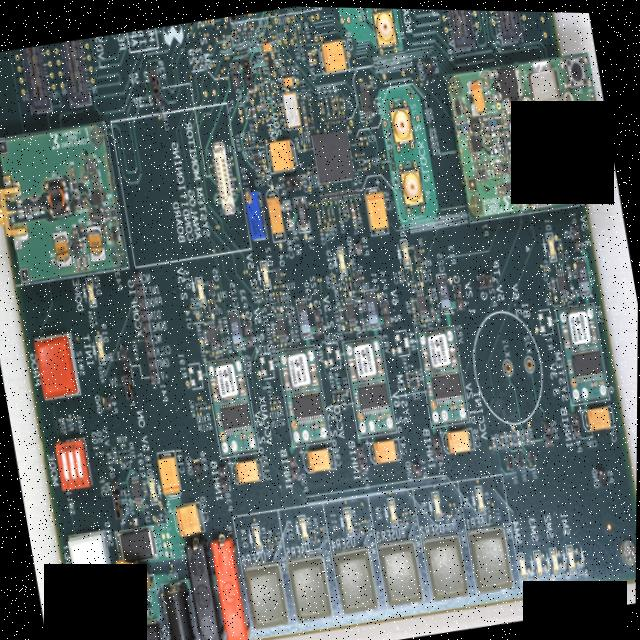-component text- -1 2 3 4 5 6 7 8-: (587, 104, 598, 150)
-component text- -1 2 3 4-: (597, 166, 603, 188)
-component text- -1 2 3-: (67, 477, 86, 488)
-component text- -100 6V-: (578, 263, 589, 278), (367, 298, 377, 313), (299, 307, 309, 322), (230, 319, 240, 333), (439, 282, 448, 296)
-component text- -106C P3705-: (528, 118, 534, 129)
-component text- -3350 1200-: (286, 76, 291, 85)
-component text- -476 10V-: (513, 110, 523, 122), (474, 91, 484, 103)
-component text- -687 6K 206-: (181, 509, 199, 529)
-component text- -687 6K 343-: (370, 196, 385, 225), (161, 458, 176, 486), (272, 143, 289, 166), (326, 42, 344, 63)
-component text- -E EG-2121 200-00P OHPA31KS-: (285, 95, 299, 121)
-component text- -K0 337 6K 321-: (449, 430, 467, 449), (375, 441, 393, 459), (309, 449, 326, 468), (269, 198, 281, 223), (237, 461, 253, 478)
-component text- -KO 337 6K 321-: (589, 406, 607, 425)
-component text- -ON DIP-: (586, 167, 594, 189)
-component text- -PTH05000 WAH 0404W701-: (569, 309, 588, 340), (355, 343, 374, 374), (217, 364, 236, 394), (429, 333, 448, 363), (289, 353, 308, 383)
-component text- -PY 65-: (515, 120, 524, 128), (476, 101, 485, 108)
-component text- -Y 500-: (249, 206, 258, 234)
-component text- 000: (26, 206, 31, 213), (509, 434, 513, 440), (493, 436, 496, 442), (502, 436, 505, 441), (502, 137, 505, 141), (504, 146, 506, 149)
-component text- 1: (125, 638, 132, 640)
-component text- 10R0: (520, 149, 523, 155)
-component text- 1102: (292, 332, 295, 338)
-component text- 1133: (432, 309, 435, 315)
-component text- 13: (580, 100, 585, 105)
-component text- 1X: (591, 161, 596, 167)
-component text- 2: (148, 633, 158, 640)
-component text- 2011: (223, 339, 226, 347)
-component text- 2201: (82, 230, 85, 237), (74, 182, 77, 188), (77, 198, 80, 204)
-component text- 2202: (113, 208, 116, 216), (458, 122, 461, 128)
-component text- 221: (485, 117, 488, 124), (497, 116, 500, 122)
-component text- 22R6: (286, 208, 291, 218)
-component text- 2321: (144, 483, 147, 491)
-component text- 2612: (429, 290, 432, 296)
-component text- 2R2J: (298, 203, 306, 220)
-component text- 3300: (106, 210, 109, 215)
-component text- 3302: (491, 116, 494, 122)
-component text- 347C: (253, 209, 261, 234)
-component text- 4700: (568, 264, 571, 272), (204, 331, 207, 339)
-component text- 4701: (527, 431, 530, 437)
-component text- 4R7: (471, 118, 480, 125), (92, 212, 101, 219)
-component text- 510: (33, 199, 37, 207)
-component text- C476: (57, 245, 66, 252), (92, 239, 101, 246)
-component text- DIP: (583, 138, 589, 151)
-component text- EPC03: (473, 86, 482, 93), (512, 106, 521, 112)
-component text- ON: (576, 105, 581, 114)
-component text- OPEN: (63, 443, 76, 451)
-electrolytic capacitor- C1: (574, 252, 592, 295)
-electrolytic capacitor- C12: (505, 95, 526, 133)
-electrolytic capacitor- C125: (227, 308, 245, 349)
-electrolytic capacitor- C135: (230, 455, 266, 484)
-electrolytic capacitor- C140: (172, 499, 207, 538)
-electrolytic capacitor- C141: (157, 448, 183, 499)
-electrolytic capacitor- C2: (580, 401, 616, 429)
-electrolytic capacitor- C25: (436, 269, 453, 312)
-electrolytic capacitor- C26: (441, 423, 477, 453)
-electrolytic capacitor- C35: (363, 183, 391, 234)
-electrolytic capacitor- C38: (316, 37, 350, 74)
-electrolytic capacitor- C41: (363, 286, 381, 329)
-electrolytic capacitor- C47: (367, 434, 404, 463)
-electrolytic capacitor- C67: (280, 74, 297, 88)
-electrolytic capacitor- C79: (258, 39, 276, 54)
-electrolytic capacitor- C86: (264, 186, 287, 242), (265, 136, 299, 173)
-electrolytic capacitor- C88: (85, 224, 107, 261)
-electrolytic capacitor- C90: (296, 296, 313, 338)
-electrolytic capacitor- C93: (51, 229, 74, 267)
-electrolytic capacitor- C96: (301, 444, 337, 473)
-electrolytic capacitor- unknown: (466, 75, 487, 113), (524, 112, 537, 137)
-emi filter- FIL1: (475, 165, 489, 180)
-emi filter- FIL10: (84, 158, 98, 172)
-emi filter- FIL2: (501, 178, 516, 192)
-emi filter- FIL3: (498, 159, 512, 173)
-emi filter- FIL4: (515, 131, 529, 145)
-test point- TP1: (495, 98, 501, 108)
-test point- TP2: (527, 195, 533, 205)
-test point- TP7: (50, 256, 58, 266)
-test point- XJ1: (500, 355, 515, 375)
-test point- XJ2: (522, 351, 537, 371)
2005: (427, 284, 434, 301)
2016: (415, 259, 421, 264)
2020: (75, 422, 78, 430)
2021: (67, 423, 71, 431)
2023: (60, 425, 64, 433)
2024: (559, 248, 563, 258)
2026: (507, 429, 515, 445)
2027: (499, 430, 507, 446)
2028: (491, 431, 498, 447)
2029: (524, 426, 532, 442)
2033: (455, 506, 458, 514)
2036: (411, 269, 414, 277)
2041: (392, 159, 395, 167)
2045: (390, 146, 394, 156)
2052: (418, 314, 421, 322)
2066: (410, 294, 417, 309)
2072: (406, 269, 409, 277)
2080: (494, 110, 503, 127), (550, 274, 557, 290)
2081: (445, 507, 448, 515)
2111: (410, 368, 415, 373)
2123: (406, 367, 410, 381)
2156: (548, 260, 552, 269)
2157: (354, 134, 360, 139)
2161: (358, 150, 363, 155)
2170: (23, 204, 33, 214), (355, 139, 361, 144)
2182: (103, 204, 112, 221), (360, 164, 365, 169)
2183: (79, 224, 88, 242), (358, 159, 364, 164)
2185: (31, 194, 40, 211), (358, 155, 363, 160)
2186: (74, 192, 83, 209)
2187: (109, 203, 118, 221)
2188: (71, 177, 80, 194)
2189: (550, 293, 554, 302)
2201: (357, 185, 360, 193)
2202: (343, 113, 346, 121)
2204: (354, 185, 358, 195)
2205: (411, 514, 414, 522)
2206: (340, 112, 344, 122)
2207: (352, 187, 355, 195)
2209: (338, 113, 341, 121)
2210: (349, 187, 352, 195)
2211: (518, 143, 526, 160)
2212: (335, 113, 338, 121)
2215: (347, 188, 350, 196)
2216: (332, 114, 335, 122)
2217: (344, 187, 348, 197)
2218: (400, 515, 403, 523)
2219: (329, 113, 333, 123)
2220: (342, 188, 345, 196)
2221: (357, 295, 364, 311)
2223: (361, 316, 368, 332)
2224: (355, 286, 360, 291)
2225: (339, 188, 342, 196)
2226: (326, 114, 330, 124)
2228: (337, 188, 340, 196)
2229: (323, 115, 327, 124)
2230: (334, 189, 337, 197)
2232: (332, 189, 335, 197)
2234: (482, 112, 491, 130), (461, 116, 469, 133), (488, 112, 496, 128), (502, 143, 509, 151), (500, 135, 507, 143)
2237: (568, 97, 605, 160)
2238: (579, 157, 611, 198)
2241: (54, 435, 94, 491)
2247: (117, 616, 169, 640)
2249: (105, 626, 113, 639), (226, 455, 234, 467), (298, 444, 306, 455), (437, 424, 445, 435), (577, 402, 585, 413), (273, 180, 280, 191), (364, 435, 371, 446), (374, 175, 381, 185), (312, 42, 318, 53), (166, 498, 172, 507), (298, 158, 304, 167), (169, 505, 174, 514), (242, 343, 248, 350), (276, 74, 281, 81), (255, 39, 260, 46), (379, 322, 384, 329), (101, 593, 105, 601), (311, 332, 315, 339), (590, 290, 594, 296), (451, 307, 455, 313)
2258: (463, 276, 478, 313)
2270: (244, 250, 259, 285), (252, 304, 266, 340), (322, 292, 336, 327), (175, 264, 188, 299), (128, 68, 150, 85), (109, 374, 125, 386)
2271: (389, 285, 403, 321)
2273: (264, 109, 283, 139)
2277: (579, 209, 593, 246), (132, 92, 154, 108), (105, 348, 122, 362)
2282: (510, 278, 524, 315)
2290: (136, 408, 151, 451)
2291: (161, 622, 172, 640)
2295: (491, 254, 507, 300)
2296: (127, 589, 154, 606)
2327: (412, 120, 431, 180)
2375: (102, 424, 117, 478)
2387: (485, 192, 504, 213)
2434: (91, 430, 109, 496)
2435: (96, 429, 114, 496)
2436: (123, 605, 155, 622)
2534: (84, 126, 91, 143)
2536: (482, 195, 488, 214)
2559: (58, 127, 87, 148)
2570: (545, 347, 571, 401)
2571: (158, 118, 212, 243)
2598: (160, 368, 169, 379)
2631: (465, 379, 479, 422)
2632: (325, 400, 341, 445), (253, 408, 269, 453)
2633: (390, 387, 406, 433)
2638: (22, 94, 26, 102)
2644: (248, 430, 255, 436), (599, 377, 606, 383), (386, 411, 393, 416), (459, 400, 465, 405), (320, 421, 326, 426), (354, 169, 359, 174), (153, 384, 158, 389), (495, 24, 498, 32), (447, 31, 450, 39), (219, 207, 222, 215), (552, 198, 554, 200)
2685: (226, 142, 232, 152)
2690: (207, 147, 213, 156)
2700: (474, 27, 479, 36), (521, 20, 525, 28), (236, 204, 240, 212)
2728: (306, 229, 311, 234)
2729: (218, 347, 223, 353)
2762: (92, 603, 102, 622)
2774: (91, 84, 99, 94), (52, 90, 58, 100)
2776: (61, 86, 67, 96)
2784: (348, 126, 353, 132)
2791: (353, 179, 358, 185)
2834: (521, 298, 532, 315)
2844: (587, 265, 596, 280), (484, 154, 488, 158)
2845: (512, 195, 516, 204)
2846: (230, 20, 241, 28)
2848: (285, 289, 292, 305)
2849: (254, 175, 265, 186)
2850: (281, 289, 288, 308)
2853: (242, 148, 253, 157)
2854: (313, 515, 321, 533)
2856: (501, 99, 506, 109)
2864: (251, 284, 258, 302)
2867: (506, 111, 510, 121)
2868: (271, 416, 282, 426)
2873: (229, 280, 239, 307)
2876: (268, 527, 275, 545)
2878: (494, 183, 498, 192)
2884: (262, 452, 272, 479)
2886: (212, 304, 223, 314)
2887: (162, 112, 169, 130)
2888: (198, 421, 209, 431)
2889: (491, 166, 496, 175)
2890: (200, 494, 210, 521)
2891: (176, 446, 186, 473)
2892: (164, 512, 172, 530)
2893: (168, 569, 179, 580)
2894: (159, 511, 167, 529)
2895: (121, 459, 132, 469)
2902: (124, 496, 131, 513)
2911: (511, 158, 517, 164)
2933: (485, 86, 491, 93)
2955: (610, 424, 618, 439), (472, 162, 475, 168)
2967: (541, 141, 544, 149)
3011: (436, 249, 446, 270)
3021: (472, 425, 482, 446), (550, 139, 557, 146)
3027: (427, 265, 433, 280)
3036: (422, 266, 428, 280), (564, 144, 568, 154)
3047: (451, 515, 458, 528)
3057: (564, 246, 570, 257), (471, 153, 474, 160)
3069: (393, 269, 399, 283)
3079: (413, 389, 422, 398)
3089: (367, 131, 376, 141)
3100: (371, 153, 380, 163)
3111: (383, 188, 392, 209)
3112: (587, 436, 599, 446)
3127: (346, 94, 352, 108)
3135: (345, 28, 354, 49)
3145: (358, 213, 364, 227)
3153: (543, 268, 549, 279), (354, 223, 360, 233)
3154: (332, 82, 339, 95)
3157: (371, 269, 380, 289)
3178: (404, 504, 410, 518)
3182: (327, 83, 333, 96)
3183: (342, 206, 348, 219)
3184: (322, 83, 328, 96)
3185: (399, 433, 409, 454)
3186: (317, 84, 323, 98)
3187: (340, 218, 346, 232)
3189: (350, 254, 357, 268), (329, 225, 335, 239)
3190: (352, 292, 358, 305)
3191: (310, 65, 316, 79)
3192: (371, 73, 377, 87)
3193: (340, 274, 346, 287)
3194: (332, 220, 338, 233)
3196: (306, 85, 312, 99)
3200: (325, 273, 331, 286)
3201: (324, 226, 330, 239)
3202: (300, 98, 306, 112)
3203: (277, 63, 286, 72)
3204: (320, 230, 326, 244)
3206: (294, 134, 301, 149)
3207: (286, 62, 300, 74)
3209: (303, 177, 309, 190)
3210: (482, 134, 486, 140)
3211: (341, 395, 347, 408)
3212: (359, 514, 366, 527)
3217: (275, 87, 282, 100)
3220: (273, 38, 279, 51)
3225: (271, 93, 277, 107)
3228: (264, 165, 273, 186)
3229: (259, 26, 265, 39), (83, 207, 88, 212)
3230: (85, 219, 92, 225)
3231: (259, 52, 265, 65), (71, 222, 77, 227)
3233: (303, 278, 312, 299), (72, 255, 77, 265)
3234: (255, 52, 261, 66), (86, 253, 92, 263)
3235: (263, 101, 269, 114), (84, 179, 90, 184)
3236: (253, 27, 259, 40)
3237: (258, 97, 264, 110), (99, 177, 102, 185)
3238: (40, 209, 46, 214)
3239: (333, 444, 342, 466), (69, 160, 75, 165)
3240: (241, 20, 250, 27), (107, 239, 112, 244)
3241: (286, 236, 295, 257), (97, 168, 101, 176)
3242: (242, 92, 251, 101)
3245: (155, 342, 172, 355)
3269: (544, 214, 552, 229)
3270: (325, 247, 335, 268)
3271: (330, 509, 340, 530)
3272: (264, 244, 274, 265)
3273: (286, 517, 296, 538)
3274: (240, 526, 249, 547)
3275: (183, 267, 191, 288)
3278: (145, 453, 154, 474)
3279: (101, 321, 110, 342)
3280: (577, 559, 585, 574)
3281: (93, 274, 102, 295)
3282: (532, 463, 538, 476)
3283: (522, 465, 528, 479)
3284: (512, 467, 518, 482)
3287: (560, 562, 568, 576)
3288: (544, 565, 552, 579)
3290: (527, 566, 535, 581)
3291: (464, 492, 472, 507)
3292: (398, 221, 406, 235)
3293: (421, 497, 429, 513)
3294: (376, 503, 384, 518)
3306: (148, 307, 162, 319)
3307: (570, 132, 576, 147)
3308: (574, 155, 581, 171)
3316: (71, 276, 85, 311), (151, 318, 168, 331)
3413: (487, 166, 492, 176)
3414: (92, 150, 101, 163)
3422: (503, 176, 511, 182)
3423: (503, 170, 510, 177)
3424: (523, 143, 530, 150)
3438: (563, 225, 573, 236), (479, 287, 489, 298), (452, 271, 462, 282), (313, 296, 322, 307), (245, 309, 253, 318), (380, 289, 388, 298)
3439: (417, 58, 426, 79), (346, 233, 355, 254), (95, 393, 104, 414), (185, 453, 194, 474), (405, 457, 414, 478), (592, 465, 601, 486), (157, 356, 171, 368)
3457: (87, 186, 92, 196)
3458: (82, 239, 89, 253)
3472: (553, 169, 560, 182)
3481: (559, 402, 575, 446), (280, 446, 295, 489), (422, 424, 437, 467), (347, 437, 362, 479), (210, 457, 224, 500)
3482: (82, 331, 95, 366), (144, 282, 160, 295)
3491: (179, 540, 188, 559)
3501: (410, 100, 418, 113)
3513: (424, 186, 432, 201)
3514: (397, 26, 405, 41)
3516: (227, 97, 235, 111)
3517: (226, 523, 234, 536), (10, 214, 15, 223)
3563: (474, 128, 479, 134)
3564: (308, 233, 316, 248)
3565: (266, 93, 272, 104)
3566: (245, 103, 253, 118)
3570: (94, 203, 99, 209)
3586: (318, 182, 323, 189)
3595: (47, 451, 61, 487)
3627: (393, 95, 401, 104)
3628: (142, 271, 152, 282), (153, 332, 163, 343)
3635: (403, 157, 412, 166), (129, 399, 136, 406), (120, 517, 127, 524)
3637: (569, 207, 577, 222)
3639: (430, 51, 439, 72)
3640: (488, 283, 498, 305)
3641: (448, 241, 458, 263)
3642: (437, 457, 446, 478)
3643: (420, 454, 429, 476)
3644: (379, 267, 388, 288)
3646: (361, 233, 370, 254)
3650: (362, 469, 371, 488)
3651: (309, 272, 318, 294)
3652: (278, 173, 287, 194)
3656: (251, 58, 257, 71)
3658: (234, 85, 244, 106)
3659: (493, 36, 501, 51)
3660: (300, 470, 309, 491)
3663: (239, 287, 248, 308)
3666: (200, 449, 209, 470)
3668: (225, 489, 234, 511)
3669: (158, 58, 167, 79)
3670: (575, 436, 583, 451)
3672: (160, 381, 169, 401)
3674: (114, 270, 123, 291)
3678: (110, 392, 119, 414)
3680: (607, 465, 615, 480)
3683: (550, 416, 560, 438)
3685: (447, 45, 455, 60)
3686: (482, 219, 490, 235)
3746: (29, 351, 41, 387), (146, 294, 163, 307)
3755: (418, 234, 424, 245)
3756: (358, 262, 365, 273)
3757: (278, 251, 286, 266)
3758: (212, 265, 220, 280)
3765: (18, 202, 21, 207)
3766: (575, 285, 581, 295), (490, 146, 494, 152)
3768: (303, 19, 310, 37)
3769: (422, 212, 429, 228)
3770: (418, 211, 425, 229)
3771: (299, 42, 306, 59)
3772: (414, 212, 421, 230)
3773: (376, 53, 383, 70)
3774: (337, 320, 344, 338)
3775: (329, 270, 336, 287)
3776: (334, 286, 341, 304)
3777: (411, 213, 418, 231)
3779: (372, 54, 379, 71)
3780: (290, 20, 301, 30)
3781: (333, 303, 340, 321)
3782: (407, 214, 414, 232)
3783: (293, 40, 300, 58)
3784: (299, 78, 307, 94)
3785: (300, 135, 311, 143)
3786: (298, 128, 309, 137)
3787: (309, 177, 320, 187)
3788: (307, 170, 319, 181)
3790: (277, 14, 288, 24)
3791: (343, 375, 350, 391)
3792: (367, 516, 374, 535)
3795: (323, 330, 340, 342)
3796: (334, 369, 342, 388)
3797: (276, 28, 287, 39)
3798: (351, 506, 359, 524)
3799: (328, 369, 335, 387)
3800: (489, 152, 494, 162)
3802: (257, 16, 268, 25)
3807: (292, 227, 302, 252)
3812: (247, 43, 258, 52)
3813: (245, 36, 256, 45)
3815: (242, 38, 249, 55)
3818: (238, 39, 245, 57)
3819: (294, 322, 301, 340)
3820: (291, 304, 298, 321)
3823: (322, 523, 329, 541)
3824: (285, 279, 296, 289)
3825: (224, 38, 235, 49)
3826: (222, 31, 233, 41)
3828: (249, 121, 256, 138)
3831: (240, 128, 251, 138)
3832: (268, 290, 275, 308)
3833: (461, 140, 468, 146)
3838: (307, 514, 314, 532)
3839: (240, 164, 251, 191)
3840: (271, 342, 278, 360)
3841: (234, 132, 242, 151)
3842: (267, 325, 274, 343)
3843: (255, 284, 262, 301)
3844: (495, 503, 502, 518)
3845: (279, 406, 286, 425)
3848: (269, 408, 280, 418)
3849: (255, 342, 271, 353)
3850: (267, 379, 274, 397)
3852: (276, 529, 283, 547)
3854: (261, 524, 268, 542)
3856: (225, 334, 233, 352)
3857: (223, 313, 230, 332)
3858: (217, 288, 228, 299)
3859: (194, 295, 201, 313)
3860: (200, 344, 207, 361)
3861: (190, 296, 197, 314)
3862: (197, 322, 204, 339)
3866: (485, 488, 491, 502)
3867: (206, 410, 213, 428)
3868: (177, 350, 189, 378)
3869: (196, 413, 207, 423)
3870: (189, 398, 196, 416)
3873: (132, 342, 140, 360)
3874: (137, 450, 147, 478)
3875: (129, 440, 136, 458)
3876: (116, 433, 127, 443)
3877: (571, 266, 578, 277)
3879: (129, 497, 136, 515)
3880: (155, 529, 165, 555)
3881: (112, 445, 119, 463)
3882: (98, 364, 105, 382)
3883: (88, 309, 95, 327)
3954: (436, 306, 442, 320)
3965: (432, 284, 438, 297)
3976: (424, 255, 433, 265)
3980: (77, 414, 84, 432)
3981: (68, 412, 75, 430)
3983: (60, 416, 68, 434)
3985: (556, 233, 564, 244)
3987: (520, 425, 527, 443)
3988: (511, 426, 519, 445)
3989: (503, 427, 511, 445)
3990: (495, 430, 502, 448)
3991: (528, 424, 535, 442)
3993: (357, 6, 370, 20)
3997: (456, 503, 462, 517)
4001: (410, 277, 416, 291)
4006: (390, 166, 400, 187)
4010: (383, 128, 392, 147)
4018: (413, 315, 419, 328)
4032: (406, 297, 412, 311)
4038: (397, 268, 403, 281)
4046: (546, 277, 552, 288), (493, 106, 498, 113)
4047: (446, 515, 452, 529)
4056: (374, 93, 383, 113)
4066: (417, 365, 423, 378)
4077: (411, 381, 420, 390)
4083: (408, 328, 417, 349)
4089: (402, 355, 408, 368)
4122: (544, 255, 550, 266)
4123: (424, 104, 433, 114)
4128: (428, 124, 437, 133)
4137: (425, 111, 434, 121), (26, 212, 33, 219)
4145: (18, 212, 25, 218)
4151: (432, 145, 441, 154), (103, 199, 110, 205)
4152: (431, 139, 440, 146), (78, 215, 85, 223)
4153: (429, 131, 438, 139), (34, 210, 41, 215)
4154: (76, 208, 83, 214)
4155: (106, 192, 113, 198)
4156: (69, 180, 74, 190)
4157: (545, 293, 551, 303)
4168: (546, 334, 554, 349)
4169: (462, 208, 468, 222)
4170: (407, 52, 413, 65)
4172: (458, 208, 464, 222)
4173: (412, 511, 419, 524)
4174: (403, 52, 409, 66)
4175: (454, 209, 460, 223)
4177: (400, 53, 406, 66)
4178: (451, 210, 457, 223)
4179: (515, 150, 519, 158)
4180: (396, 53, 402, 67)
4183: (447, 211, 453, 224)
4184: (392, 54, 398, 67)
4185: (444, 211, 450, 225)
4186: (401, 523, 407, 536)
4187: (388, 54, 394, 68)
4188: (440, 211, 446, 225)
4189: (361, 295, 367, 309)
4191: (365, 315, 371, 329)
4192: (362, 279, 371, 288)
4193: (437, 212, 443, 226)
4194: (385, 55, 391, 68), (55, 223, 62, 230)
4196: (433, 213, 439, 227)
4197: (381, 56, 387, 69)
4198: (429, 214, 435, 228)
4200: (426, 214, 432, 228)
4204: (63, 541, 77, 584)
4252: (560, 508, 572, 533), (504, 518, 514, 537)
4253: (543, 510, 556, 536)
4254: (529, 513, 540, 538)
4255: (512, 516, 524, 542)
4266: (575, 84, 583, 92)
4267: (105, 519, 115, 546)
4268: (67, 489, 77, 515)
4269: (76, 348, 86, 375)
4270: (459, 525, 468, 546)
4271: (415, 531, 423, 552)
4272: (370, 538, 379, 559)
4273: (325, 546, 334, 567)
4274: (281, 552, 289, 574)
4276: (112, 631, 121, 640)
4278: (396, 370, 413, 423)
4296: (108, 219, 113, 228)
4303: (489, 101, 496, 108)
4312: (521, 202, 528, 209)
4320: (50, 250, 57, 257)
4329: (50, 170, 58, 177)
4341: (566, 291, 574, 305)
4342: (277, 50, 283, 64)
4343: (258, 135, 267, 155)
4344: (261, 304, 270, 325)
4346: (184, 307, 194, 329)
4347: (143, 501, 152, 522)
4368: (426, 313, 434, 326)
4369: (358, 107, 366, 121)
4370: (356, 172, 363, 182)
4371: (355, 322, 363, 336)
4377: (466, 511, 492, 528)
4378: (420, 519, 447, 535)
4379: (376, 524, 403, 541)
4380: (330, 533, 357, 550)
4381: (286, 541, 312, 557)
4382: (242, 549, 268, 565)
4388: (258, 393, 274, 445)
4389: (473, 387, 489, 438)
4390: (332, 402, 347, 438)
4394: (594, 298, 604, 321)
4395: (455, 320, 465, 343)
4396: (382, 331, 391, 352)
4397: (316, 340, 325, 361)
4398: (244, 352, 253, 373)
4414: (127, 276, 144, 337)
4416: (501, 334, 512, 356)
4417: (524, 330, 533, 351)
4419: (522, 66, 528, 79)
4426: (280, 115, 288, 130)
4438: (43, 174, 72, 218)
4443: (411, 240, 423, 257)
4444: (352, 268, 363, 286)
4445: (273, 264, 284, 281)
4447: (206, 278, 218, 295)
4464: (109, 223, 122, 241)
4467: (487, 61, 524, 100), (451, 97, 464, 114)
button SW1: (467, 520, 517, 591), (559, 50, 593, 88)
button SW10: (66, 527, 117, 600)
button SW12: (33, 331, 83, 401)
button SW2: (423, 528, 471, 599)
button SW3: (378, 534, 427, 605)
button SW4: (332, 541, 382, 613)
button SW5: (287, 550, 336, 621)
button SW6: (243, 556, 292, 629)
capacitor: (421, 345, 432, 368), (282, 365, 292, 389), (375, 351, 385, 375), (210, 377, 220, 400), (237, 371, 247, 394), (449, 341, 459, 364), (589, 317, 599, 340), (562, 322, 572, 345), (348, 356, 358, 379), (310, 361, 319, 385), (350, 203, 357, 219), (600, 150, 606, 164), (514, 177, 520, 191), (217, 411, 223, 425), (427, 379, 433, 393), (354, 390, 360, 404), (590, 89, 596, 102), (463, 102, 469, 115), (449, 400, 458, 408), (590, 377, 599, 385), (238, 432, 248, 439), (289, 400, 294, 414), (568, 356, 573, 370), (310, 421, 319, 428), (377, 412, 386, 419), (498, 128, 505, 135), (277, 100, 281, 109), (533, 141, 537, 149), (519, 177, 523, 185), (521, 188, 525, 196), (267, 22, 270, 29)
capacitor C10: (483, 157, 490, 166)
capacitor C100: (481, 69, 490, 87), (516, 192, 522, 205)
capacitor C101: (237, 25, 242, 30)
capacitor C103: (281, 294, 284, 302)
capacitor C104: (256, 170, 262, 176)
capacitor C105: (277, 294, 281, 303)
capacitor C108: (246, 144, 253, 149)
capacitor C109: (314, 532, 318, 541)
capacitor C110: (500, 109, 509, 126)
capacitor C118: (260, 291, 264, 300)
capacitor C121: (273, 398, 279, 403)
capacitor C129: (268, 541, 272, 550)
capacitor C130: (496, 180, 503, 193)
capacitor C138: (209, 303, 212, 311)
capacitor C139: (159, 109, 163, 118)
capacitor C14: (199, 405, 205, 410)
capacitor C140: (493, 161, 499, 174)
capacitor C143: (165, 504, 168, 512)
capacitor C144: (169, 567, 174, 572)
capacitor C145: (156, 513, 162, 527)
capacitor C146: (122, 454, 127, 458)
capacitor C152: (124, 487, 128, 496)
capacitor C160: (503, 151, 510, 159)
capacitor C180: (485, 91, 492, 100)
capacitor C20: (475, 159, 482, 167)
capacitor C210: (536, 136, 542, 149)
capacitor C260: (546, 146, 555, 156)
capacitor C270: (420, 270, 424, 279)
capacitor C280: (555, 144, 565, 155), (417, 270, 421, 279)
capacitor C290: (451, 506, 454, 514)
capacitor C30: (473, 150, 481, 159), (561, 248, 565, 257)
capacitor C310: (402, 270, 406, 279)
capacitor C321: (411, 374, 416, 378)
capacitor C330: (363, 133, 368, 138)
capacitor C340: (366, 156, 371, 161)
capacitor C351: (589, 431, 595, 436)
capacitor C370: (342, 94, 346, 108)
capacitor C390: (356, 201, 359, 209)
capacitor C40: (543, 261, 546, 269)
capacitor C400: (336, 99, 340, 108)
capacitor C430: (403, 515, 406, 523)
capacitor C45: (330, 95, 335, 109)
capacitor C46: (346, 202, 349, 210)
capacitor C47: (326, 101, 329, 109)
capacitor C49: (320, 98, 325, 112)
capacitor C5: (338, 204, 341, 212)
capacitor C51: (347, 260, 351, 268), (327, 206, 330, 214)
capacitor C52: (349, 279, 352, 287)
capacitor C53: (307, 47, 314, 63)
capacitor C54: (370, 78, 373, 86)
capacitor C55: (346, 280, 349, 288)
capacitor C56: (331, 206, 334, 214)
capacitor C58: (310, 105, 313, 113)
capacitor C61: (334, 275, 338, 285)
capacitor C62: (322, 207, 325, 215)
capacitor C63: (302, 111, 309, 127)
capacitor C64: (281, 69, 286, 74)
capacitor C65: (317, 206, 321, 220)
capacitor C67: (298, 146, 303, 151)
capacitor C7: (298, 171, 308, 178)
capacitor C70: (486, 129, 492, 142)
capacitor C71: (337, 391, 342, 396)
capacitor C72: (358, 524, 362, 533)
capacitor C77: (273, 78, 277, 87)
capacitor C84: (270, 78, 274, 87)
capacitor C88: (81, 195, 87, 209), (257, 23, 260, 31)
capacitor C9: (71, 227, 79, 234), (262, 65, 265, 73)
capacitor C91: (74, 253, 84, 270)
capacitor C92: (80, 252, 90, 270), (258, 65, 262, 74)
capacitor C93: (82, 171, 90, 181), (260, 80, 264, 90)
capacitor C94: (249, 24, 254, 29)
capacitor C95: (92, 178, 100, 187), (258, 81, 261, 89)
capacitor C96: (39, 204, 44, 209)
capacitor C97: (70, 165, 76, 178)
capacitor C98: (103, 223, 109, 236), (242, 24, 247, 29)
capacitor C99: (91, 170, 99, 179)
capacitor CA7: (247, 85, 256, 92)
clock XTAL1: (524, 55, 572, 148)
clock unknown: (281, 88, 303, 129)
connector: (561, 181, 579, 199), (112, 477, 122, 493)
connector -J1_2-: (159, 576, 202, 640)
connector J12: (182, 532, 227, 640)
connector J20: (387, 101, 416, 145)
connector J5: (397, 164, 426, 205)
connector J6: (371, 6, 399, 47)
connector J9: (208, 530, 253, 640), (0, 170, 32, 257)
connector P10: (570, 221, 584, 250)
connector P12: (422, 57, 434, 74)
connector P13: (476, 269, 495, 288)
connector P14: (452, 280, 466, 310)
connector P15: (432, 433, 444, 459)
connector P16: (412, 459, 423, 476)
connector P17: (380, 297, 392, 324)
connector P19: (354, 239, 364, 254)
connector P22: (356, 442, 368, 469)
connector P23: (313, 306, 326, 333)
connector P24: (284, 173, 301, 189)
connector P3: (228, 59, 242, 88)
connector P31: (289, 451, 301, 478)
connector P34: (244, 318, 256, 345)
connector P37: (192, 457, 204, 482)
connector P39: (218, 464, 231, 490)
connector P4: (208, 139, 240, 215), (153, 93, 163, 106)
connector P40: (570, 410, 582, 436)
connector P42: (132, 270, 161, 384), (119, 346, 131, 372)
connector P49: (102, 394, 112, 409)
connector P50: (598, 465, 609, 483)
connector P6: (542, 419, 555, 445)
diode D22: (527, 447, 538, 464)
diode D23: (516, 449, 527, 466)
diode D25 RA: (505, 451, 516, 468)
fuse: (116, 551, 158, 595)
ic IC11 -FTDI 09753-1 FT232HQ 1544-C-: (90, 186, 103, 205)
ic IC12: (69, 236, 83, 253)
ic IC3 -CU384C 08KG4 ESZ1-: (518, 147, 559, 208)
ic U1: (555, 263, 569, 294)
ic U10: (265, 57, 275, 73)
ic U11: (250, 150, 264, 171)
ic U12: (274, 310, 289, 342)
ic U14: (205, 319, 221, 349)
ic U15: (129, 474, 144, 505)
ic U5: (414, 284, 429, 316)
ic U6: (359, 79, 375, 120)
ic U7: (310, 126, 356, 184)
ic U8: (344, 294, 358, 325)
ic unknown: (430, 364, 464, 404), (357, 374, 391, 414), (291, 384, 325, 424), (571, 341, 605, 380), (219, 395, 253, 434), (352, 339, 379, 379), (426, 329, 453, 367), (287, 350, 313, 389), (566, 305, 592, 344), (214, 360, 239, 398), (470, 132, 484, 152)
inductor L3: (292, 193, 311, 231)
inductor L3 -3R3 X4-: (467, 115, 482, 131)
inductor L4: (263, 76, 270, 92)
inductor L5: (250, 102, 257, 119)
inductor L7: (90, 207, 105, 223)
jumper P27: (241, 55, 254, 83)
jumper P39: (148, 68, 162, 95)
jumper P41: (123, 372, 137, 399)
jumper unknown: (112, 492, 127, 519)
led D1: (545, 229, 558, 260)
led D10: (335, 243, 349, 275)
led D11: (342, 504, 356, 535)
led D12: (259, 257, 272, 289)
led D13: (298, 512, 312, 543)
led D14: (252, 520, 265, 552)
led D15: (195, 274, 208, 306)
led D19: (94, 333, 108, 364)
led D2: (565, 540, 578, 571)
led D20: (85, 276, 98, 307)
led D3: (549, 543, 562, 574)
led D4: (533, 545, 546, 577)
led D5: (517, 548, 530, 579)
led D6: (474, 481, 487, 512)
led D7: (399, 235, 413, 266)
led D8: (431, 488, 444, 519)
led D9: (387, 493, 400, 526)
pads R111: (289, 13, 293, 22)
pads R114: (291, 30, 295, 39)
pads R120: (282, 21, 289, 27)
pads R125: (325, 338, 343, 368)
pads R127: (270, 26, 277, 33)
pads R13: (493, 146, 502, 162)
pads R174: (259, 350, 276, 378)
pads R191: (187, 360, 206, 390)
pads R302: (515, 427, 523, 444)
pads R44: (393, 326, 412, 354)
pads R53: (15, 196, 24, 213)
pads R7: (537, 303, 556, 334)
pads unknown: (491, 129, 500, 145), (506, 129, 512, 142), (508, 142, 514, 155)
pins unknown: (160, 529, 175, 559)
potentiometer R536: (244, 187, 268, 240)
resistor R10: (569, 280, 576, 297)
resistor R101: (301, 28, 305, 37)
resistor R102: (329, 190, 333, 199)
resistor R103: (326, 190, 330, 199)
resistor R104: (297, 28, 301, 37)
resistor R105: (325, 191, 328, 199)
resistor R106: (311, 117, 315, 128)
resistor R107: (346, 324, 349, 332)
resistor R108: (338, 275, 342, 284)
resistor R109: (340, 291, 343, 300)
resistor R11: (322, 191, 325, 199)
resistor R111: (309, 119, 312, 127)
resistor R113: (338, 303, 345, 319)
resistor R114: (319, 191, 323, 200)
resistor R116: (300, 89, 303, 97)
resistor R117: (307, 145, 311, 149)
resistor R118: (306, 141, 312, 146)
resistor R119: (310, 167, 316, 173)
resistor R12: (310, 163, 315, 168)
resistor R122: (343, 386, 346, 394)
resistor R123: (365, 524, 368, 532)
resistor R127: (335, 386, 342, 392)
resistor R129: (355, 524, 359, 533)
resistor R13: (332, 388, 335, 396)
resistor R132: (261, 22, 266, 27)
resistor R137: (282, 197, 295, 229)
resistor R141: (247, 32, 253, 37)
resistor R142: (247, 28, 252, 33)
resistor R144 274: (244, 30, 247, 38)
resistor R146: (241, 30, 244, 38)
resistor R148: (290, 327, 297, 343)
resistor R149 114: (287, 307, 294, 323)
resistor R151: (321, 531, 325, 541)
resistor R152: (277, 282, 283, 287)
resistor R153: (235, 37, 239, 41)
resistor R154: (233, 32, 239, 37)
resistor R156: (253, 138, 256, 146)
resistor R159: (246, 138, 252, 143)
resistor R16: (274, 294, 277, 302)
resistor R160: (455, 117, 464, 134)
resistor R165: (310, 531, 314, 542)
resistor R167: (278, 337, 281, 345)
resistor R168: (243, 140, 246, 148)
resistor R169: (270, 319, 277, 335)
resistor R17: (265, 291, 268, 299)
resistor R170: (494, 508, 497, 516)
resistor R171: (278, 393, 281, 401)
resistor R174: (272, 393, 277, 398)
resistor R176: (269, 395, 272, 403)
resistor R178: (276, 539, 279, 547)
resistor R18: (265, 542, 268, 550)
resistor R181: (221, 337, 228, 353)
resistor R182: (218, 316, 225, 332)
resistor R183: (213, 297, 218, 302)
resistor R184: (205, 309, 208, 317)
resistor R185: (208, 348, 211, 356)
resistor R186: (200, 307, 203, 315)
resistor R187: (203, 328, 210, 343)
resistor R190: (488, 502, 492, 511)
resistor R191: (204, 398, 208, 408)
resistor R193: (199, 400, 204, 405)
resistor R194: (196, 400, 199, 409)
resistor R197: (135, 337, 140, 342)
resistor R198: (142, 479, 149, 495)
resistor R199: (128, 447, 131, 455)
resistor R2: (122, 448, 127, 453)
resistor R20: (566, 260, 573, 277)
resistor R201: (128, 486, 132, 496)
resistor R202: (113, 514, 160, 564)
resistor R203: (118, 449, 122, 458)
resistor R204: (104, 367, 107, 375)
resistor R205: (94, 310, 97, 318)
resistor R270: (430, 305, 437, 321)
